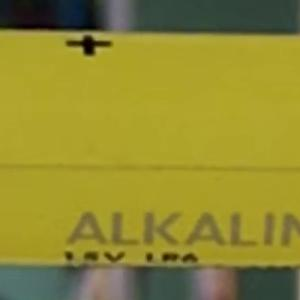keyword: (54, 204, 163, 271)
